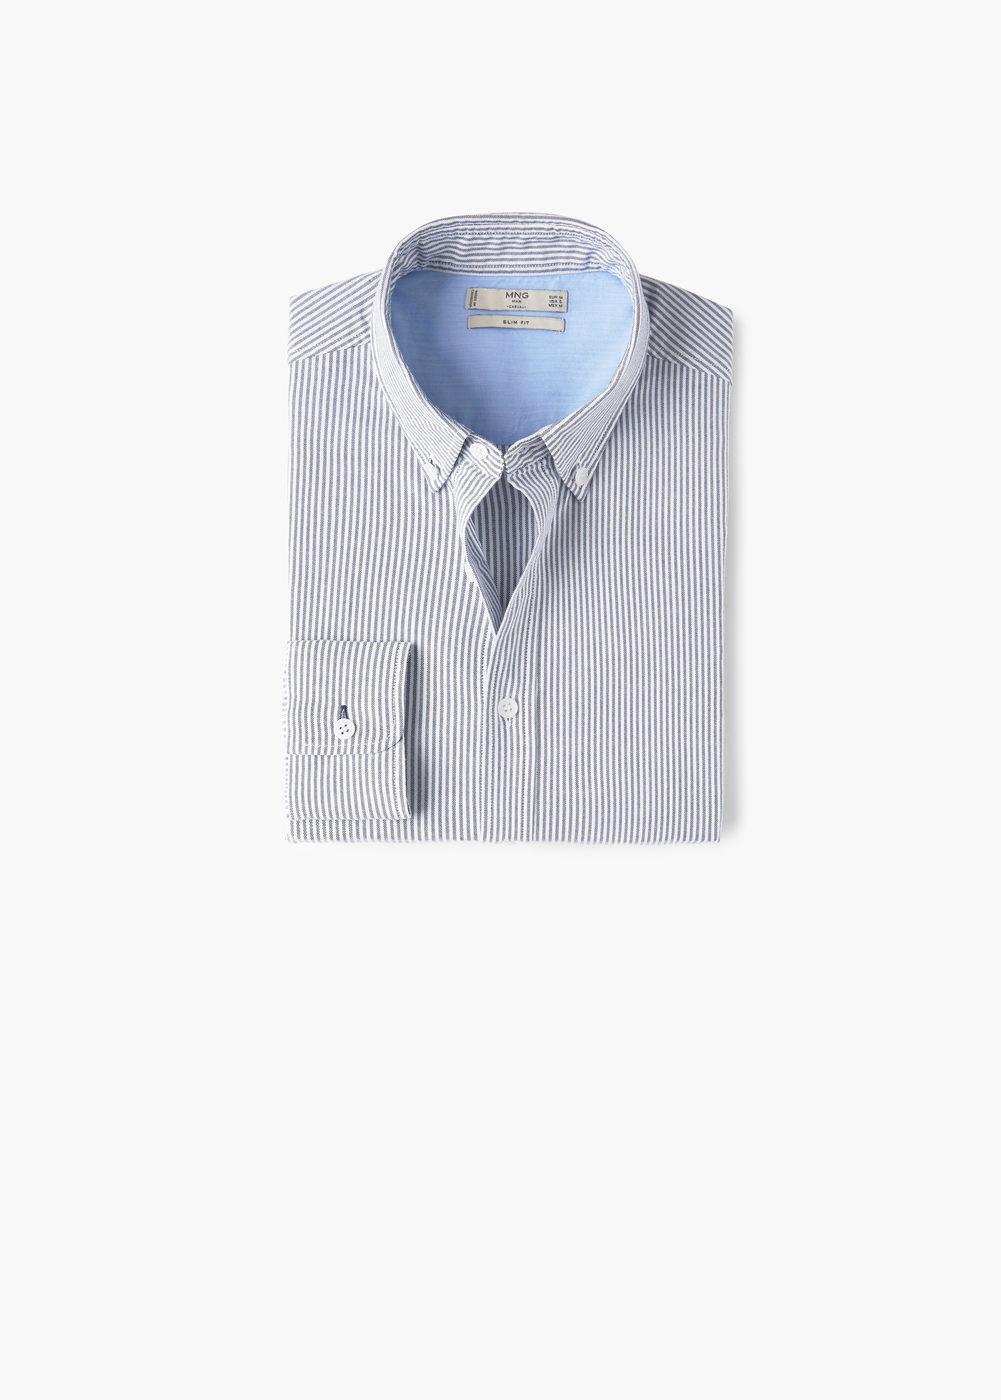teeshirt: (248, 197, 757, 880)
